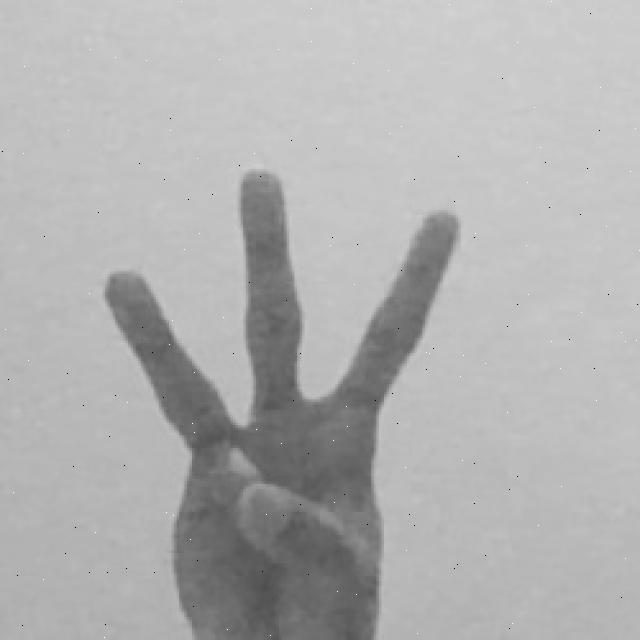W: (96, 161, 462, 640)
